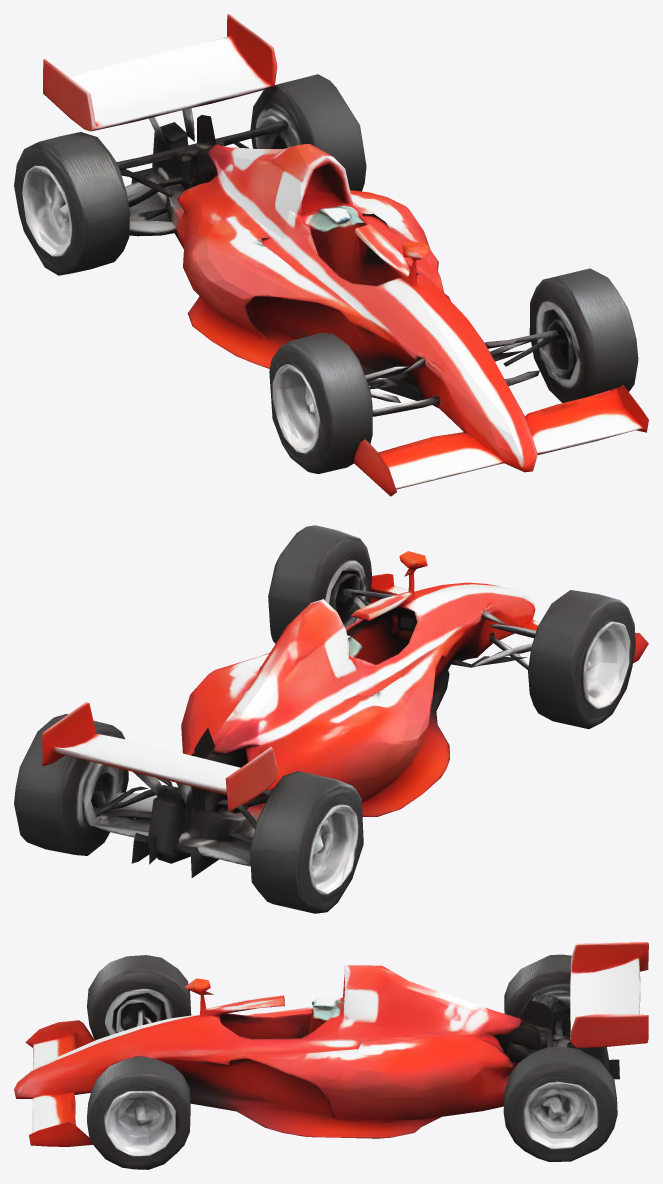
3 views of the same model, one above another, from view 1: azimuth 30°, elevation 25°; view 2: azimuth 150°, elevation 25°; view 3: azimuth 270°, elevation 25° (orthographic). The views are drawn at different scales.
Parts seen in each view (by area): view 1: model; view 2: model; view 3: model.
Boxes of the visible parts, bbox=[...] form: model: bbox=[14, 14, 648, 496]; model: bbox=[14, 525, 648, 913]; model: bbox=[14, 942, 648, 1169].
Bounding box in the file's own units: 0.8738 × 0.4835 × 1.89.
1 material, 1 textured.
